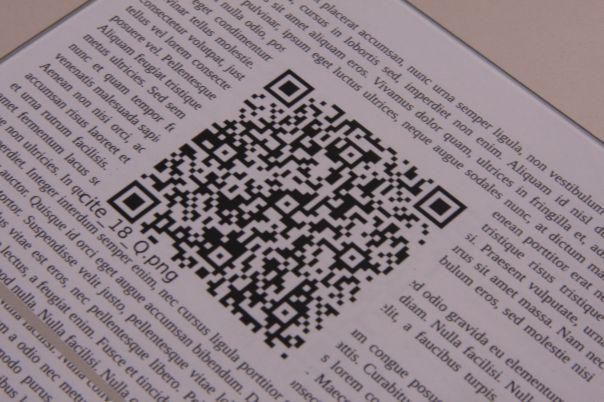Finder pattern: (416, 184, 470, 229), (108, 180, 162, 223), (264, 71, 317, 108)
